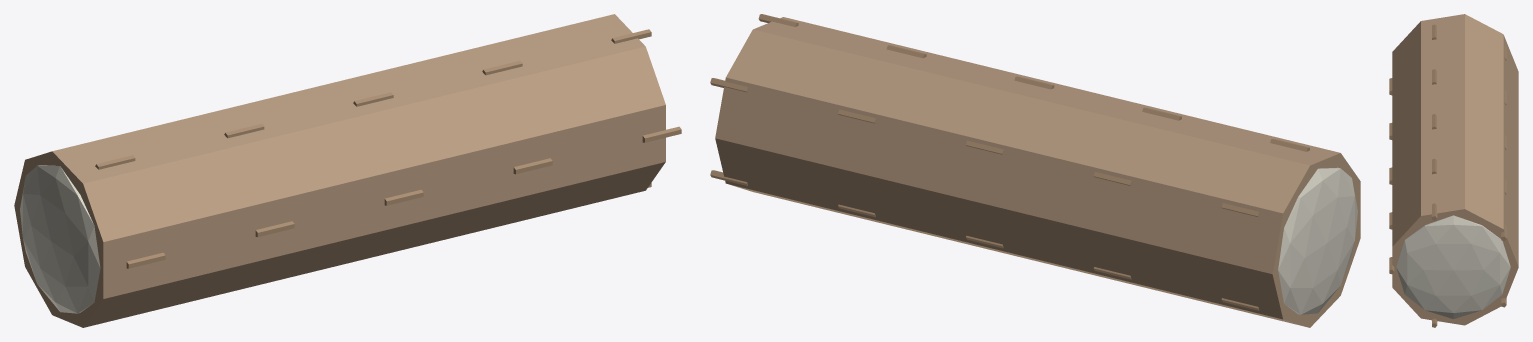
Rendered from fallen_log.glb.
3 renders of one model, left to right at view 1: azimuth 30°, elevation 25°; view 2: azimuth 150°, elevation 25°; view 3: azimuth 270°, elevation 25°, orthographic. The views are drawn at different scales.
Visible parts, largest first — view 1: Trunk, End_-145; view 2: Trunk, End_-145; view 3: Trunk, End_145.
Boxes of the visible parts, <box> form: Trunk: <box>14,14,665,327</box>; End_-145: <box>20,165,100,313</box>; Trunk: <box>715,17,1360,327</box>; End_-145: <box>1278,167,1357,314</box>; Trunk: <box>1392,14,1518,325</box>; End_145: <box>1396,215,1510,318</box>.
Size of the model in its own units: 3.02 by 0.8075 by 0.8146.
